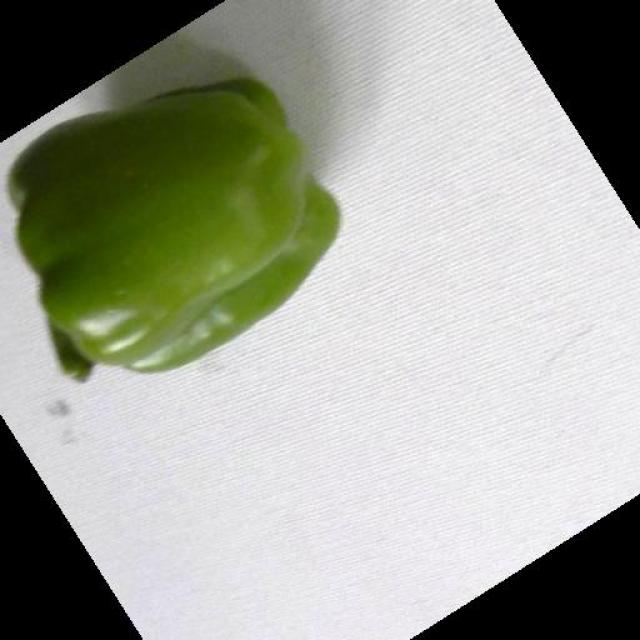Fresh_Capsicum: (6, 126, 364, 372)
